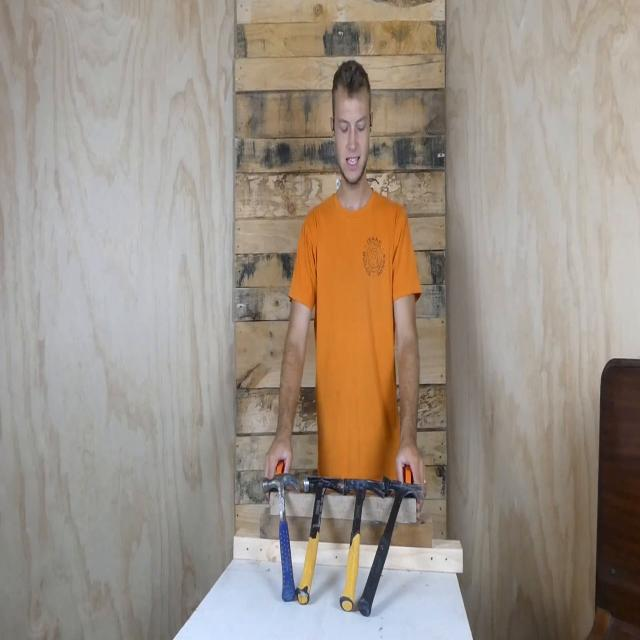hammer: (352, 471, 442, 617), (336, 464, 386, 617), (298, 456, 344, 604), (260, 470, 303, 606)
